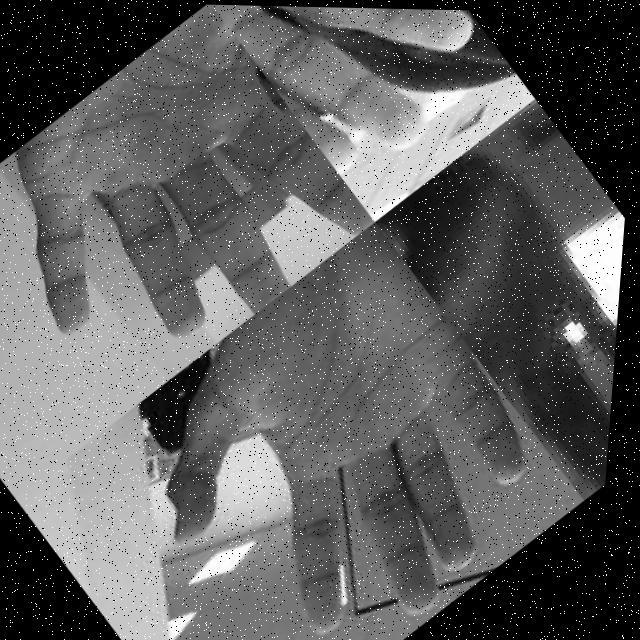no-gloves: (89, 214, 598, 640), (0, 0, 389, 417), (367, 135, 632, 497), (196, 4, 517, 194)
